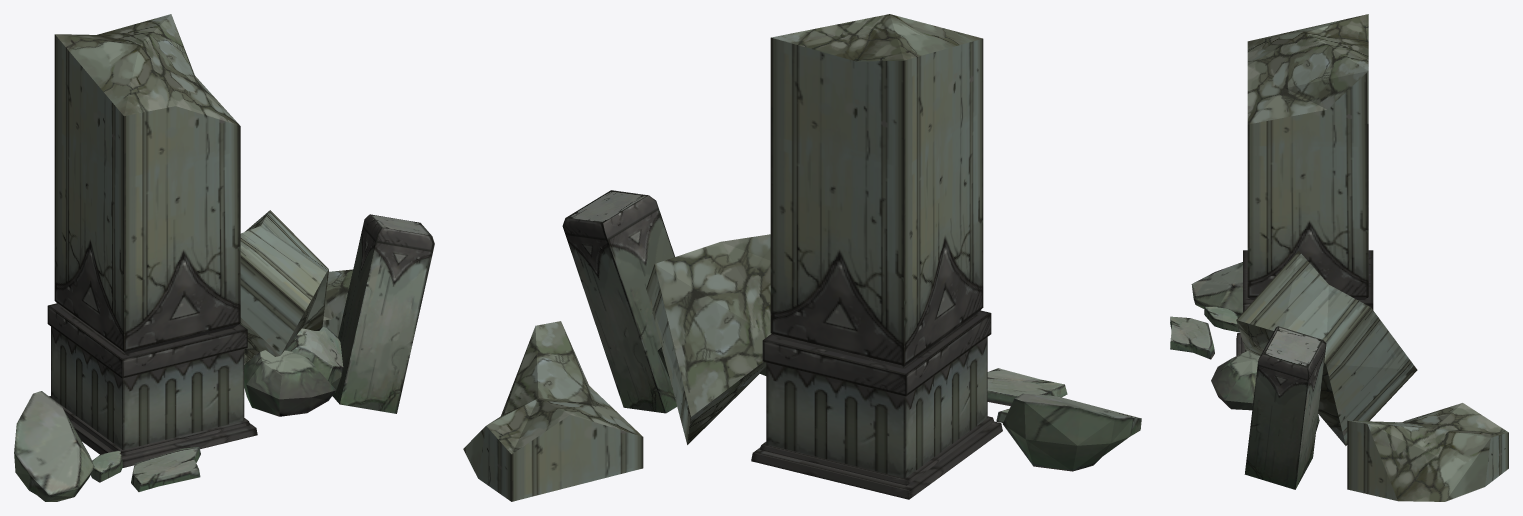
File: 2_WGJ_DaZhuZi_01_02.FBX
3 renders of one model, left to right at view 1: azimuth 30°, elevation 25°; view 2: azimuth 150°, elevation 25°; view 3: azimuth 270°, elevation 25°, orthographic. The views are drawn at different scales.
Parts seen in each view (by area): view 1: 2_WGJ_DaZhuZi_01_02, 2_WGJ_DaZhuZi_01_03, 2_WGJ_DaZhuZi_01_04, 2_WGJ_DaZhuZi_01_07, 2_WGJ_DaZhuZi_01_06, 2_WGJ_DaZhuZi_01_08, 2_WGJ_DaZhuZi_01_05; view 2: 2_WGJ_DaZhuZi_01_02, 2_WGJ_DaZhuZi_01_05, 2_WGJ_DaZhuZi_01_04, 2_WGJ_DaZhuZi_01_03, 2_WGJ_DaZhuZi_01_06, 2_WGJ_DaZhuZi_01_08; view 3: 2_WGJ_DaZhuZi_01_02, 2_WGJ_DaZhuZi_01_04, 2_WGJ_DaZhuZi_01_05, 2_WGJ_DaZhuZi_01_03, 2_WGJ_DaZhuZi_01_08, 2_WGJ_DaZhuZi_01_07, 2_WGJ_DaZhuZi_01_06.
Boxes of the visible parts, x1,y1,x2,y2 form: 2_WGJ_DaZhuZi_01_02: [47, 14, 257, 467]; 2_WGJ_DaZhuZi_01_03: [332, 214, 434, 413]; 2_WGJ_DaZhuZi_01_04: [240, 210, 328, 364]; 2_WGJ_DaZhuZi_01_07: [244, 326, 343, 416]; 2_WGJ_DaZhuZi_01_06: [14, 391, 94, 501]; 2_WGJ_DaZhuZi_01_08: [91, 447, 200, 491]; 2_WGJ_DaZhuZi_01_05: [322, 269, 353, 336]; 2_WGJ_DaZhuZi_01_02: [751, 14, 1002, 499]; 2_WGJ_DaZhuZi_01_05: [463, 321, 643, 501]; 2_WGJ_DaZhuZi_01_04: [646, 234, 771, 444]; 2_WGJ_DaZhuZi_01_03: [562, 190, 676, 413]; 2_WGJ_DaZhuZi_01_06: [1002, 393, 1141, 471]; 2_WGJ_DaZhuZi_01_08: [987, 368, 1067, 422]; 2_WGJ_DaZhuZi_01_02: [1236, 14, 1373, 355]; 2_WGJ_DaZhuZi_01_04: [1236, 250, 1417, 445]; 2_WGJ_DaZhuZi_01_05: [1347, 403, 1508, 501]; 2_WGJ_DaZhuZi_01_03: [1244, 326, 1326, 489]; 2_WGJ_DaZhuZi_01_08: [1170, 306, 1239, 359]; 2_WGJ_DaZhuZi_01_07: [1211, 351, 1319, 431]; 2_WGJ_DaZhuZi_01_06: [1191, 262, 1242, 317].
Bounding box in the file's own units: 911 × 779 × 672.
